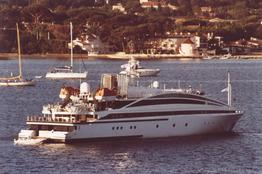yacht: (21, 62, 246, 148), (113, 60, 162, 77)
